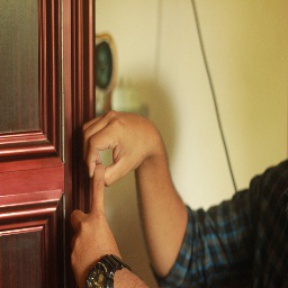Q: (67, 101, 163, 245)
